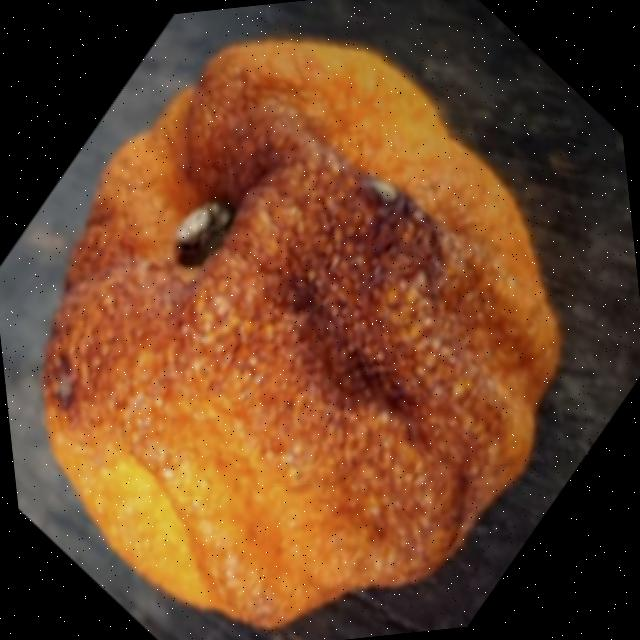overripe: (7, 12, 587, 640)
